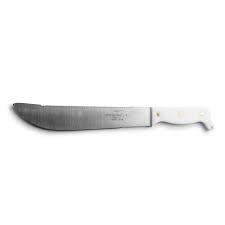knife: (11, 97, 218, 145)
